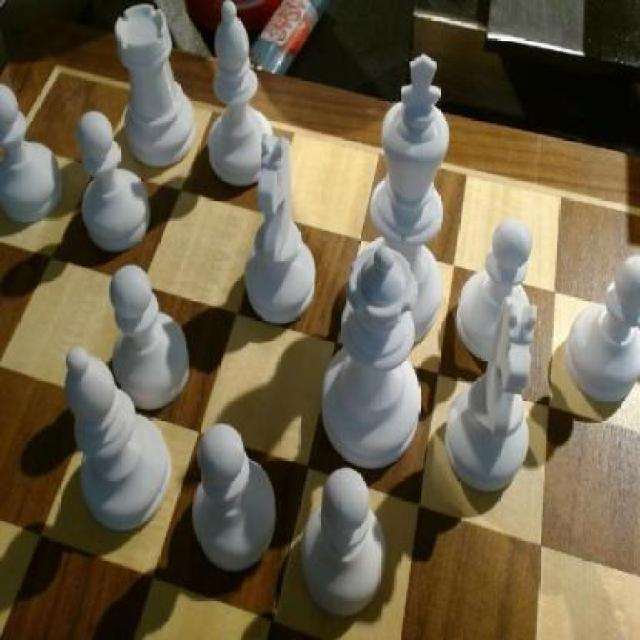black-rook: (62, 345, 173, 537), (204, 0, 276, 188)
white-bishop: (366, 54, 450, 339)
white-king: (449, 300, 534, 496), (246, 131, 321, 330)
white-knight: (194, 418, 278, 582), (303, 466, 385, 619), (566, 248, 640, 409), (111, 261, 191, 407), (75, 112, 151, 248), (457, 222, 532, 358), (0, 82, 65, 226)
white-pawn: (324, 248, 424, 468)
white-queen: (117, 4, 195, 166)
